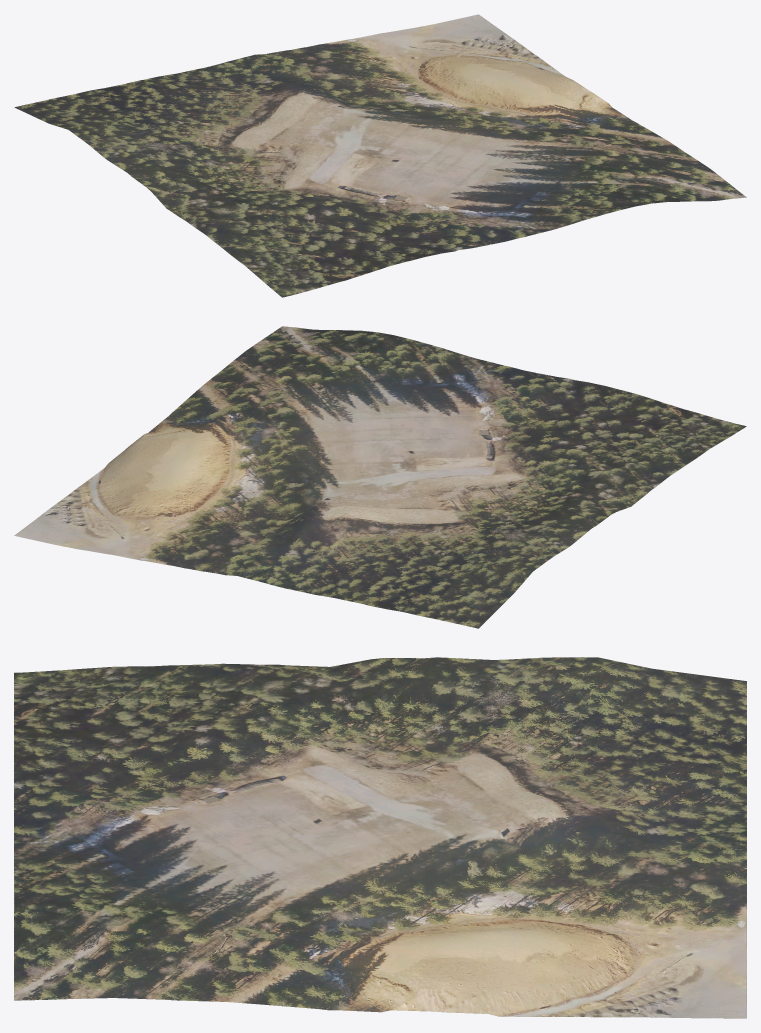
The model's file is CM_Terrain_24489434_6822251.fbx.
3 views of the same model, one above another, from view 1: azimuth 30°, elevation 25°; view 2: azimuth 150°, elevation 25°; view 3: azimuth 270°, elevation 25° (orthographic). The views are drawn at different scales.
Parts seen in each view (by area): view 1: CM_Terrain_24489434_6822251_LOD0; view 2: CM_Terrain_24489434_6822251_LOD0; view 3: CM_Terrain_24489434_6822251_LOD0.
Part boxes in pixels (x1,y1,x2,y2): CM_Terrain_24489434_6822251_LOD0: (14, 14, 746, 297); CM_Terrain_24489434_6822251_LOD0: (14, 326, 746, 628); CM_Terrain_24489434_6822251_LOD0: (14, 657, 746, 1018).
Size of what is drawn, in the model's own units: 205 by 16.26 by 205.
